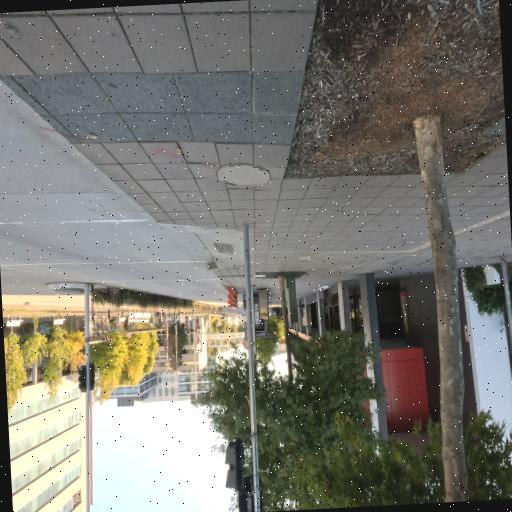kerb_cut: (159, 224, 245, 269)
